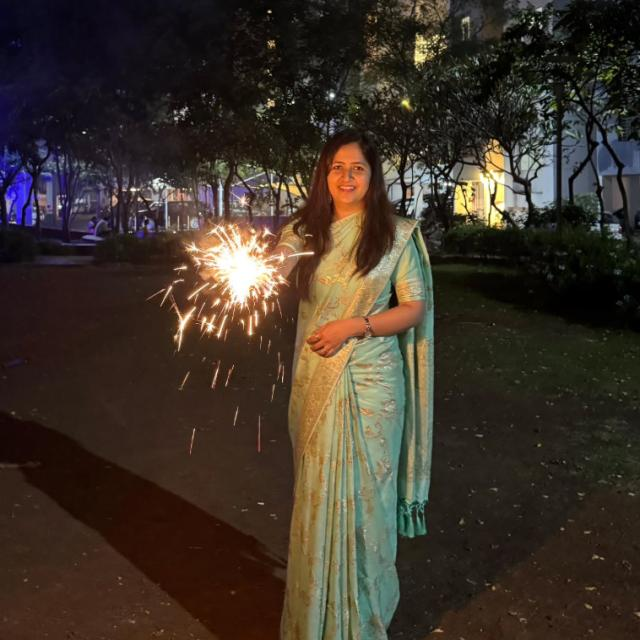fire: (145, 219, 315, 351), (479, 171, 504, 228)
